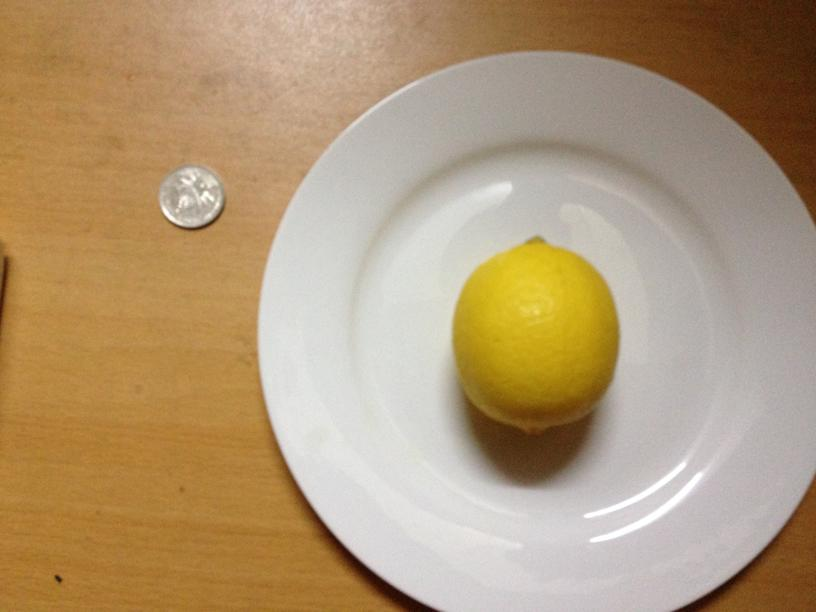coin: (157, 166, 224, 229)
lemon: (453, 239, 618, 430)
